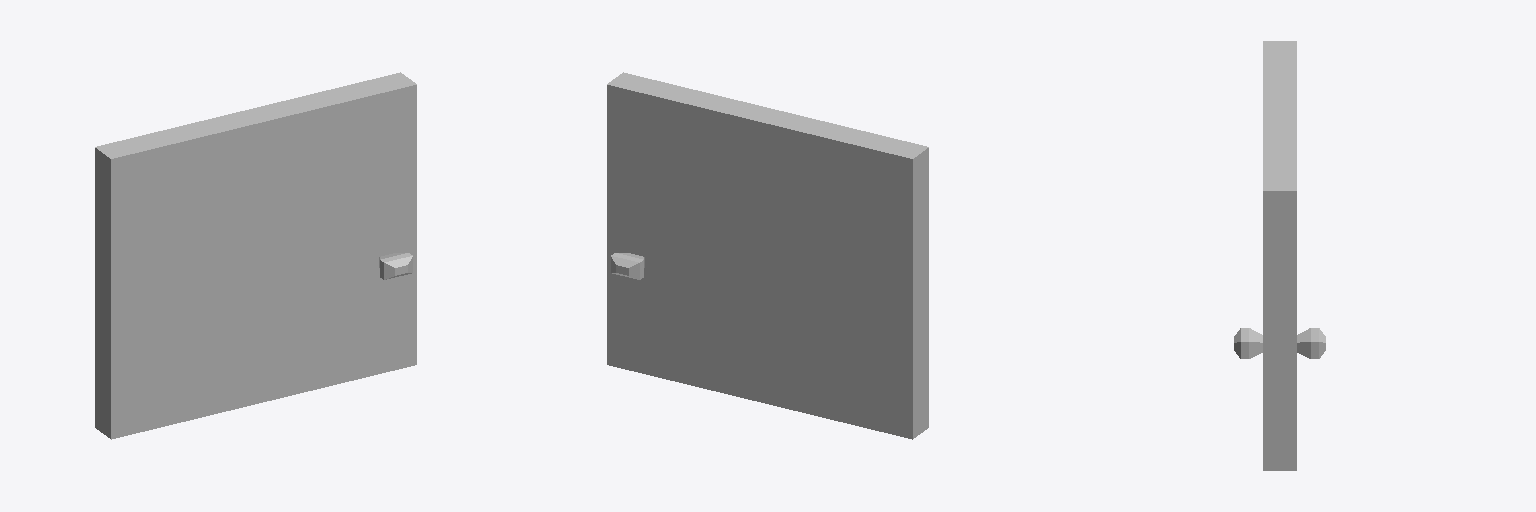
The model's file is door.obj.
The picture shows the model from 3 angles: view 1: azimuth 30°, elevation 25°; view 2: azimuth 150°, elevation 25°; view 3: azimuth 270°, elevation 25°; orthographic projection.
Visible parts, largest first — view 1: polySurface10; view 2: polySurface10; view 3: polySurface10.
Boxes of the visible parts, <box> form: polySurface10: <box>95,72,416,439</box>; polySurface10: <box>607,72,928,439</box>; polySurface10: <box>1234,41,1325,470</box>.
Bounding box in the file's own units: 8 × 7 × 2.07.